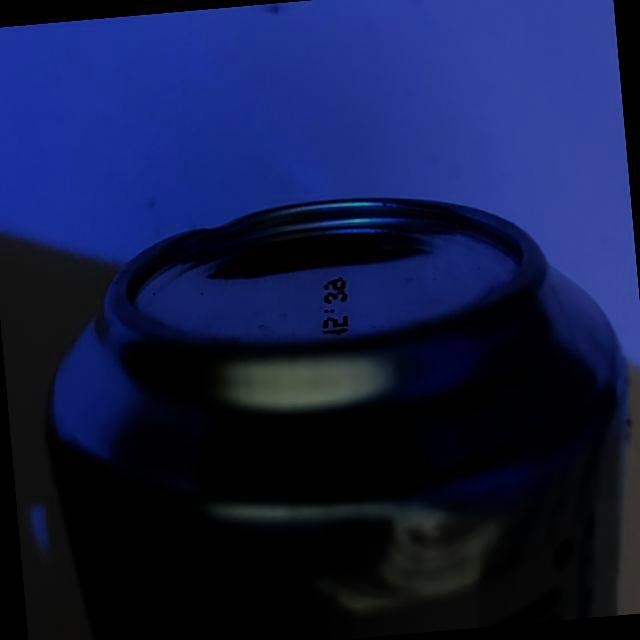metal: (12, 156, 640, 640)
